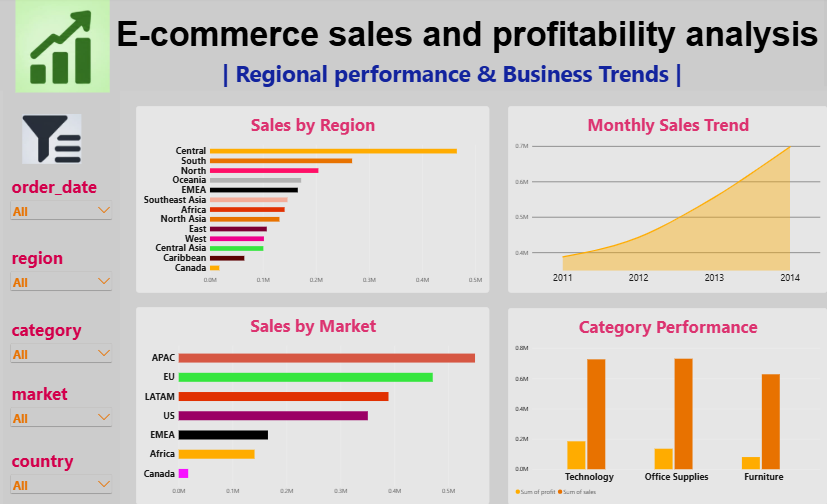

This screenshot's page, from the dashboard's own definition file:
{"tool":"powerbi","page":{"name":"Sales analysis","canvas":[1960,1202],"ordinal":1},"visuals":[{"type":"textbox","box":[9.5,0,276.8,1199.6],"z":0},{"type":"textbox","box":[0,0,1960,221.2],"z":1000},{"type":"clusteredBarChart","title":"Sales by Region","fields":{"Category":["cleaned_sales_data.region"],"Y":["Sum(cleaned_sales_data.sales)"]},"box":[324.1,257.2,836,442.4],"z":2000},{"type":"barChart","title":"Sales by Market","fields":{"Category":["cleaned_sales_data.market"],"Y":["Sum(cleaned_sales_data.sales)"]},"box":[324.1,733.1,836,468.1],"z":3000},{"type":"lineChart","title":"Monthly Sales Trend","fields":{"Category":["cleaned_sales_data.order_date.Variation.Date Hierarchy.Year","cleaned_sales_data.order_date.Variation.Date Hierarchy.Quarter","cleaned_sales_data.order_date.Variation.Date Hierarchy.Month","cleaned_sales_data.order_date.Variation.Date Hierarchy.Day"],"Y":["Sum(cleaned_sales_data.sales)"]},"box":[1203.8,257.2,756.2,442.4],"z":4000},{"type":"clusteredColumnChart","title":"Category Performance","fields":{"Category":["cleaned_sales_data.category"],"Y":["Sum(cleaned_sales_data.profit)","Sum(cleaned_sales_data.sales)"]},"box":[1203.8,735.6,756.2,465.6],"z":5000},{"type":"slicer","fields":{"Values":["cleaned_sales_data.order_date"]},"box":[20.6,421.8,252.1,110.6],"z":5001},{"type":"slicer","fields":{"Values":["cleaned_sales_data.region"]},"box":[20.6,589,252.1,110.6],"z":5002},{"type":"slicer","fields":{"Values":["cleaned_sales_data.market"]},"box":[20.6,910.6,252.1,110.6],"z":5003},{"type":"slicer","fields":{"Values":["cleaned_sales_data.category"]},"box":[20.6,758.8,252.1,110.6],"z":5004},{"type":"slicer","fields":{"Values":["cleaned_sales_data.country"]},"box":[20.6,1070,252.1,110.6],"z":5005},{"type":"image","box":[0,277.8,249.5,118.3],"z":5006},{"type":"image","box":[0,0,300.9,226.4],"z":5007}]}

Visuals, with their boxes in screenshot pixels (x1, y1, x2, y2), scaled from the page's 1960x1202 canvas onto the 827x504 screenshot:
textbox: box(4, 0, 121, 503)
textbox: box(0, 0, 826, 93)
"Sales by Region" clusteredBarChart: box(137, 108, 489, 293)
"Sales by Market" barChart: box(137, 307, 489, 503)
"Monthly Sales Trend" lineChart: box(508, 108, 826, 293)
"Category Performance" clusteredColumnChart: box(508, 308, 826, 503)
slicer - cleaned_sales_data.order_date: box(9, 177, 115, 223)
slicer - cleaned_sales_data.region: box(9, 247, 115, 293)
slicer - cleaned_sales_data.market: box(9, 382, 115, 428)
slicer - cleaned_sales_data.category: box(9, 318, 115, 365)
slicer - cleaned_sales_data.country: box(9, 449, 115, 495)
image: box(0, 116, 105, 166)
image: box(0, 0, 127, 95)
